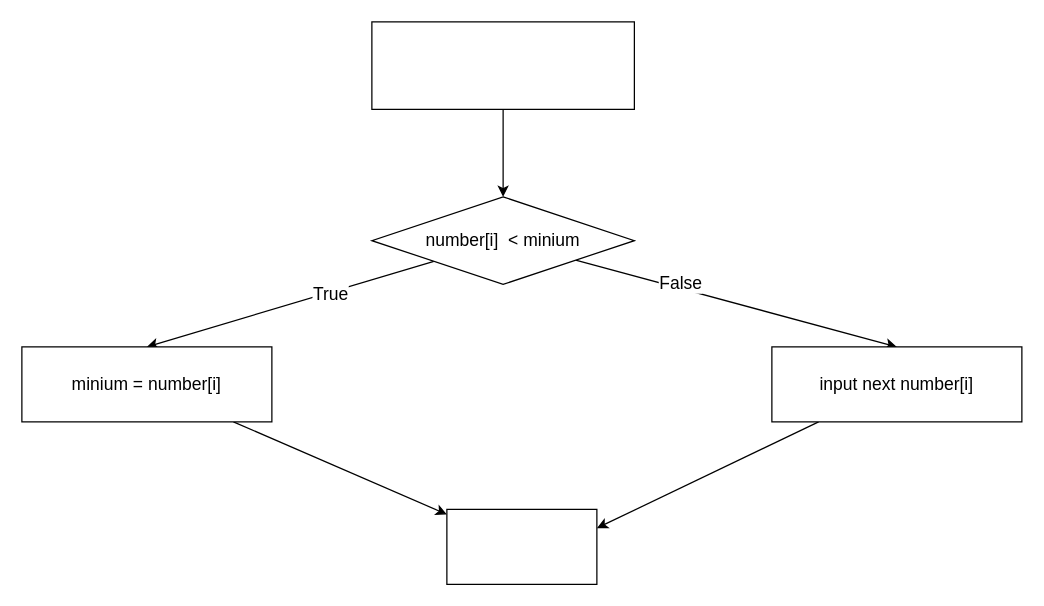
Some shapes in this 1044 by 606 pixel diagram are drawn without their labels. Here are the shapes that lost their labels. From the top down, the box of each, then its label:
(371, 21, 634, 109): int min = number[0]
(446, 508, 597, 584): print minimum
